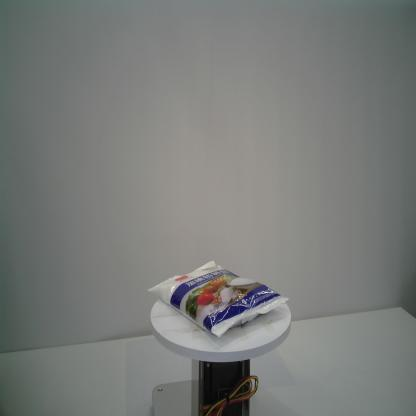Seasoner: (147, 258, 289, 338)
